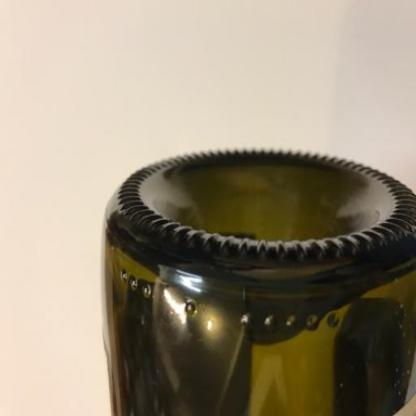trash: (100, 146, 415, 414)
